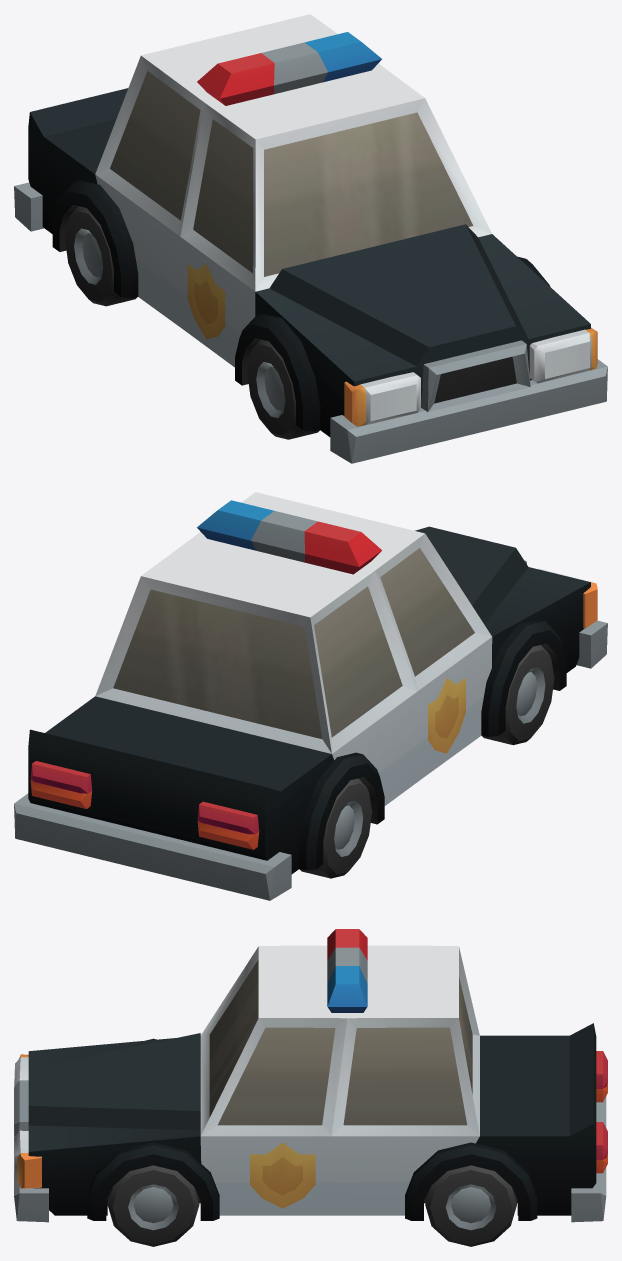
Rendered from police_car.glb.
3 renders of one model, top to bottom at view 1: azimuth 30°, elevation 25°; view 2: azimuth 150°, elevation 25°; view 3: azimuth 270°, elevation 25°, orthographic. The views are drawn at different scales.
Visible parts, largest first — view 1: car_police; view 2: car_police; view 3: car_police.
Boxes of the visible parts, <box> form: car_police: <box>14,14,607,463</box>; car_police: <box>14,492,607,900</box>; car_police: <box>14,929,607,1246</box>.
Size of the model in its own units: 0.419 by 0.4126 by 0.9381.
Materials: 1 (1 with a texture image).
